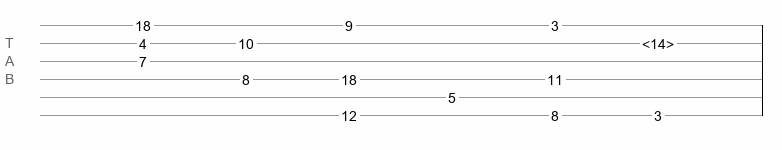10: (238, 36, 254, 46)
11: (547, 72, 563, 82)
12: (341, 108, 357, 118)
18: (135, 18, 151, 28), (341, 72, 357, 82)
3: (551, 18, 559, 28), (654, 108, 662, 118)
4: (139, 36, 147, 46)
5: (448, 90, 456, 100)
7: (139, 54, 147, 64)
8: (242, 72, 250, 82), (551, 108, 559, 118)
9: (345, 18, 353, 28)
harmonic: (642, 36, 674, 46)
